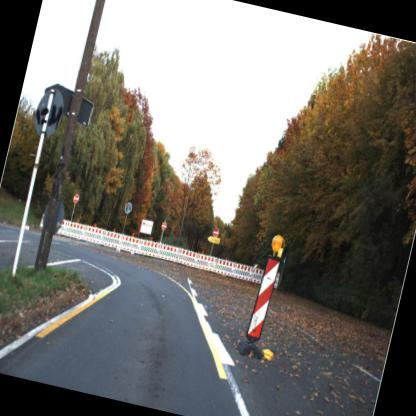other: (68, 188, 82, 206), (157, 219, 170, 234), (210, 225, 222, 240)
